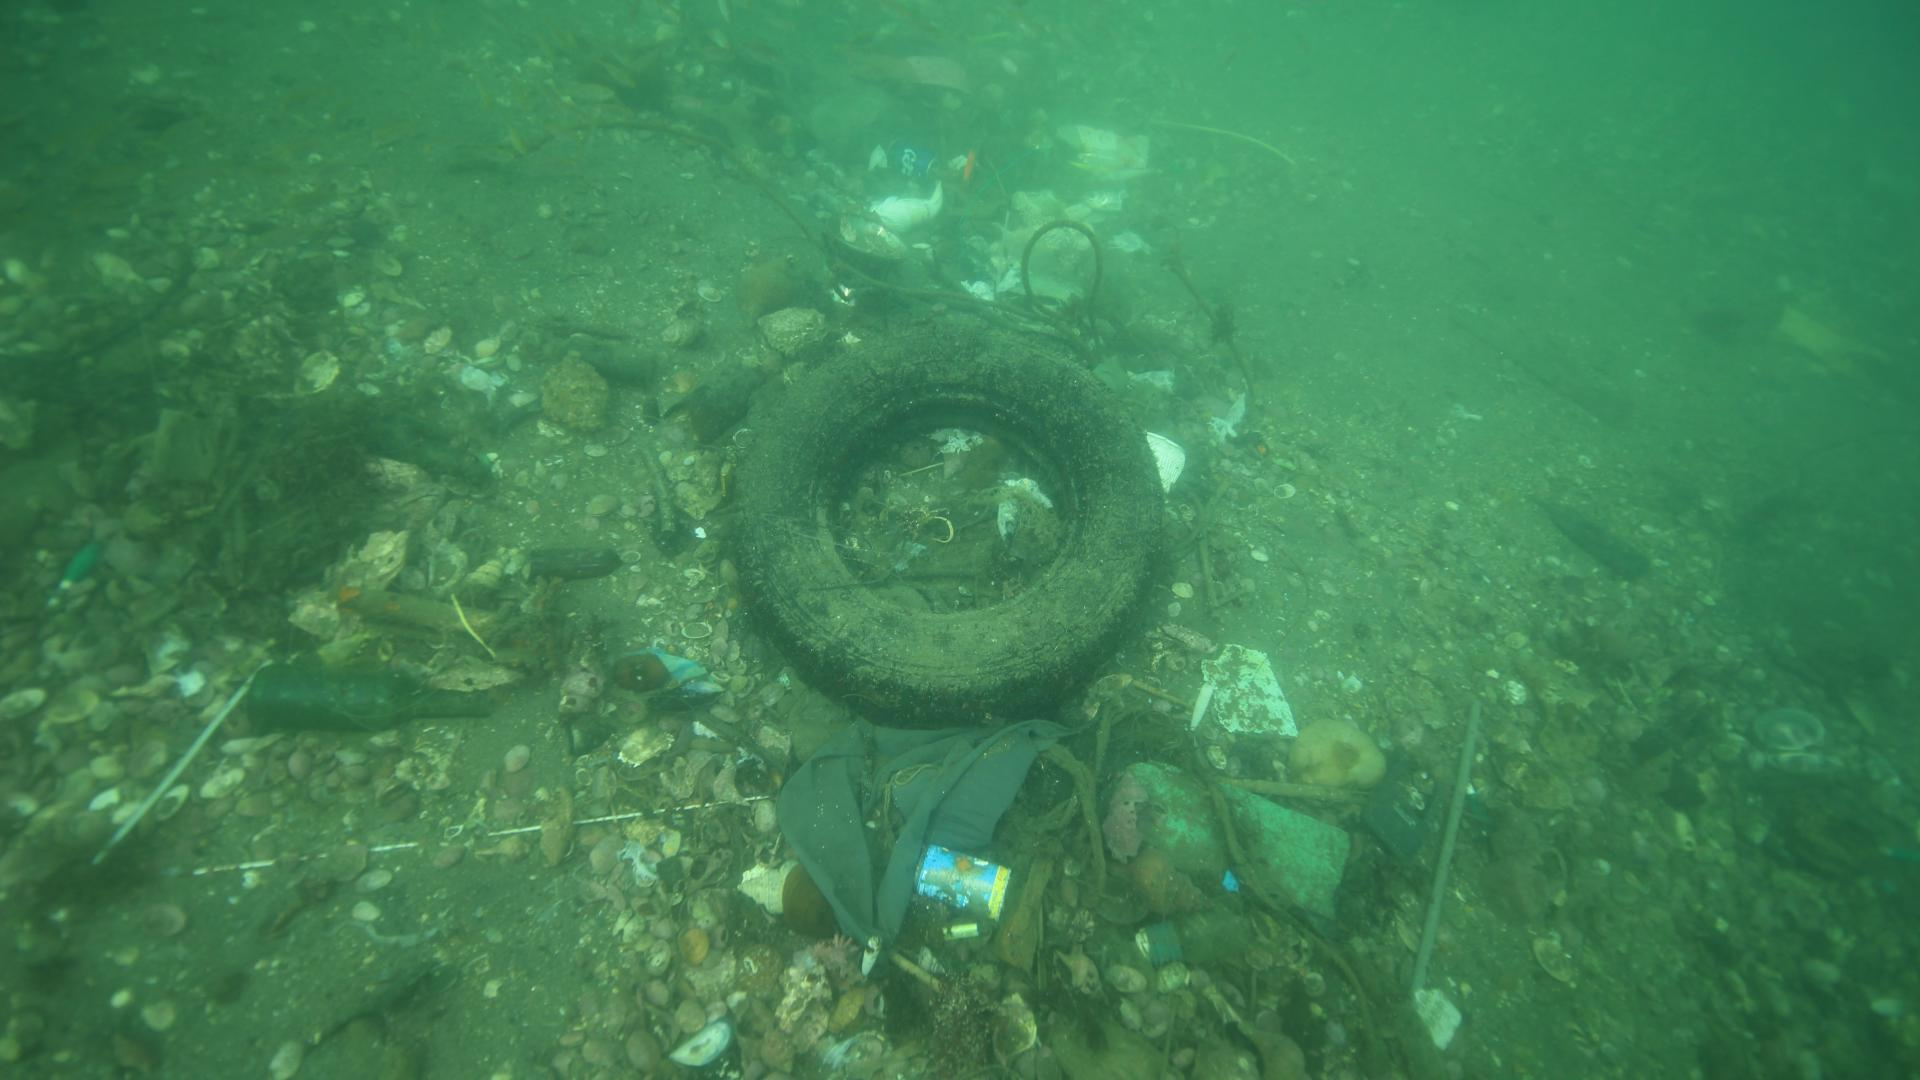rope: (1018, 218, 1104, 324)
tire: (729, 324, 1160, 724)
